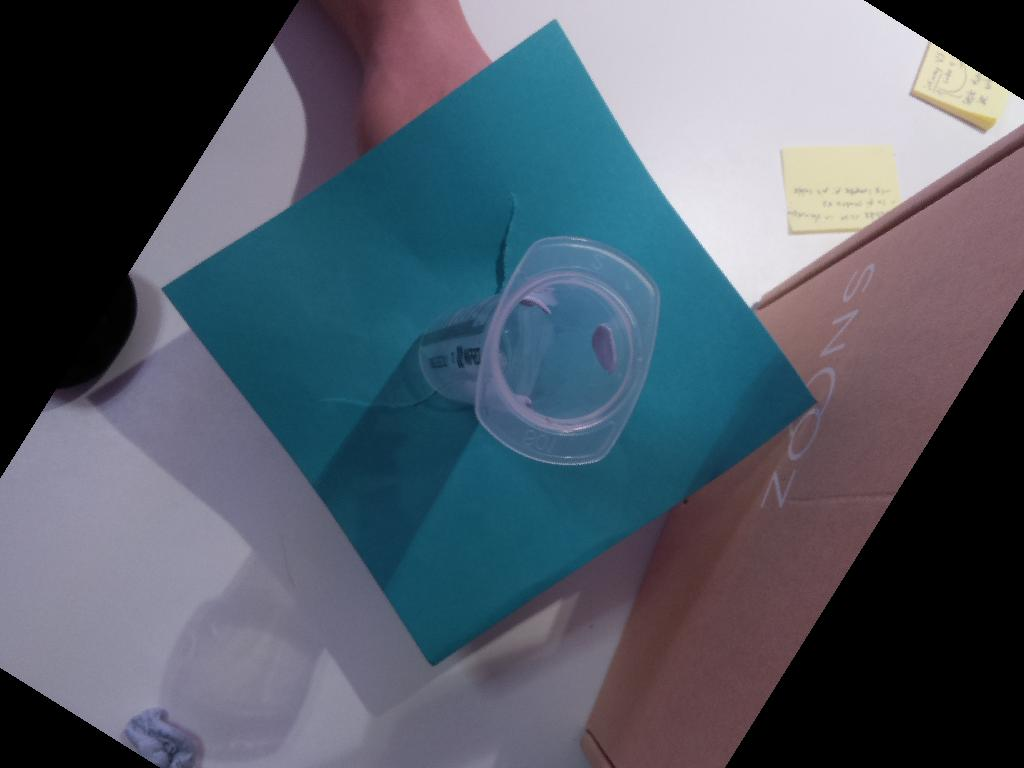dirty: (475, 236, 660, 467)
